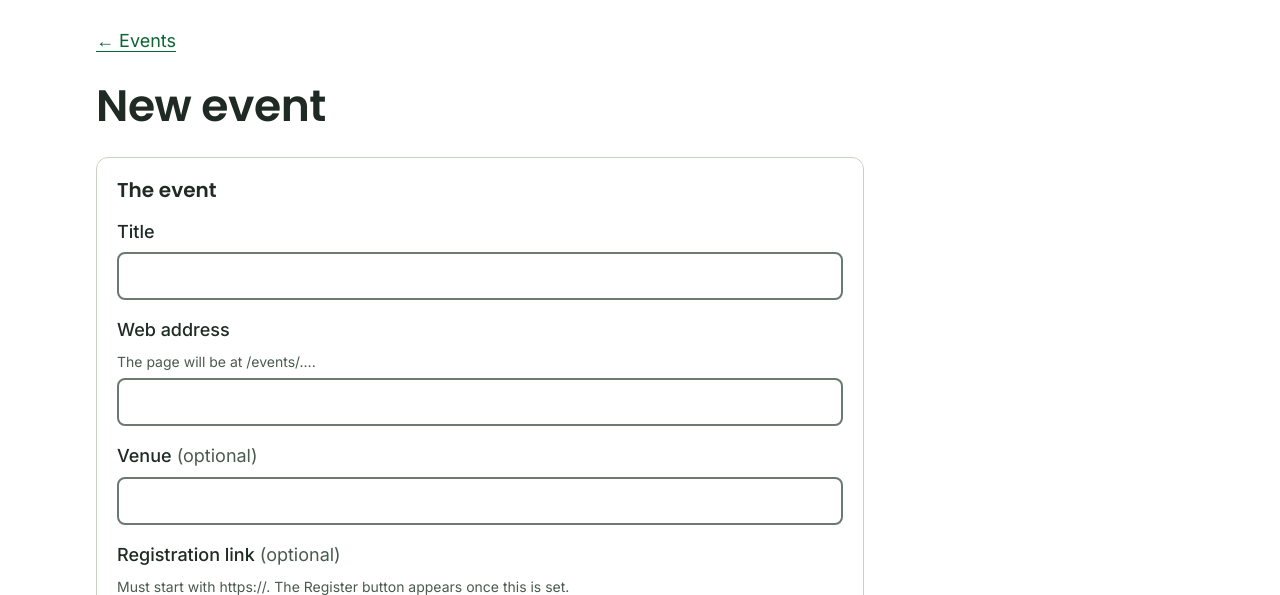
Scenario: posting an event › shows the API’s messages on the right fields, including a taken web address
The image size is (1280, 595).
Type "Freshers Week" into the field labelled "Title" at {"x": 480, "y": 276}, box [117, 252, 843, 300]
(page scrolled)
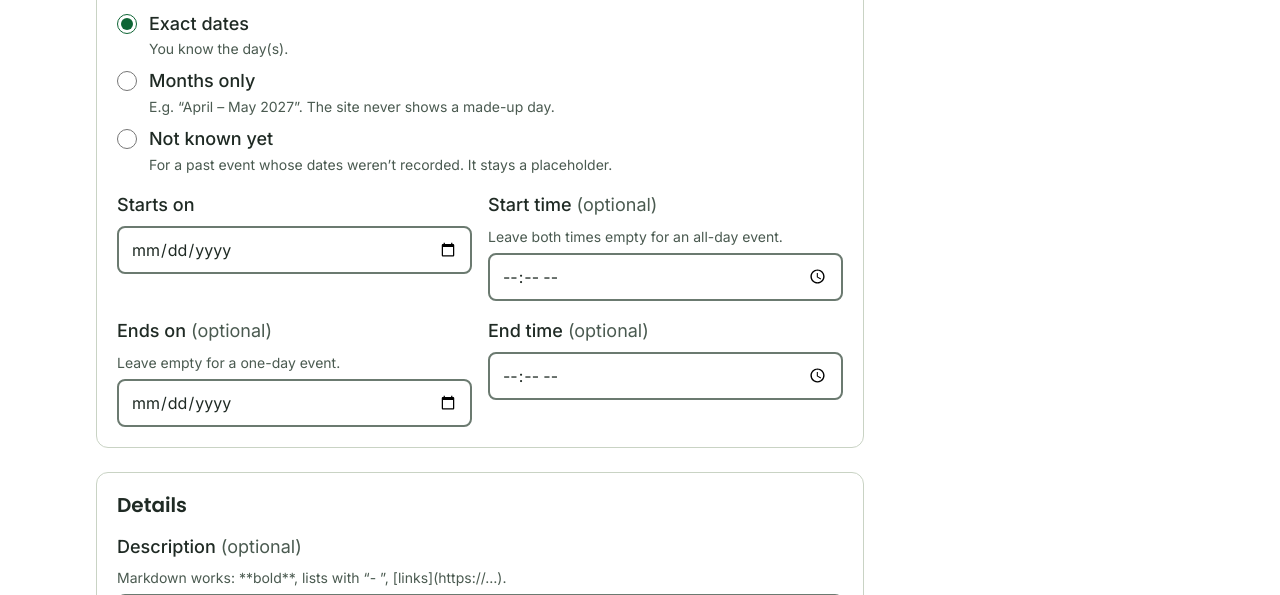
Type "2026-11-30" into the date field labelled "Starts on" at {"x": 294, "y": 250}, box [117, 226, 472, 274]
(page scrolled)
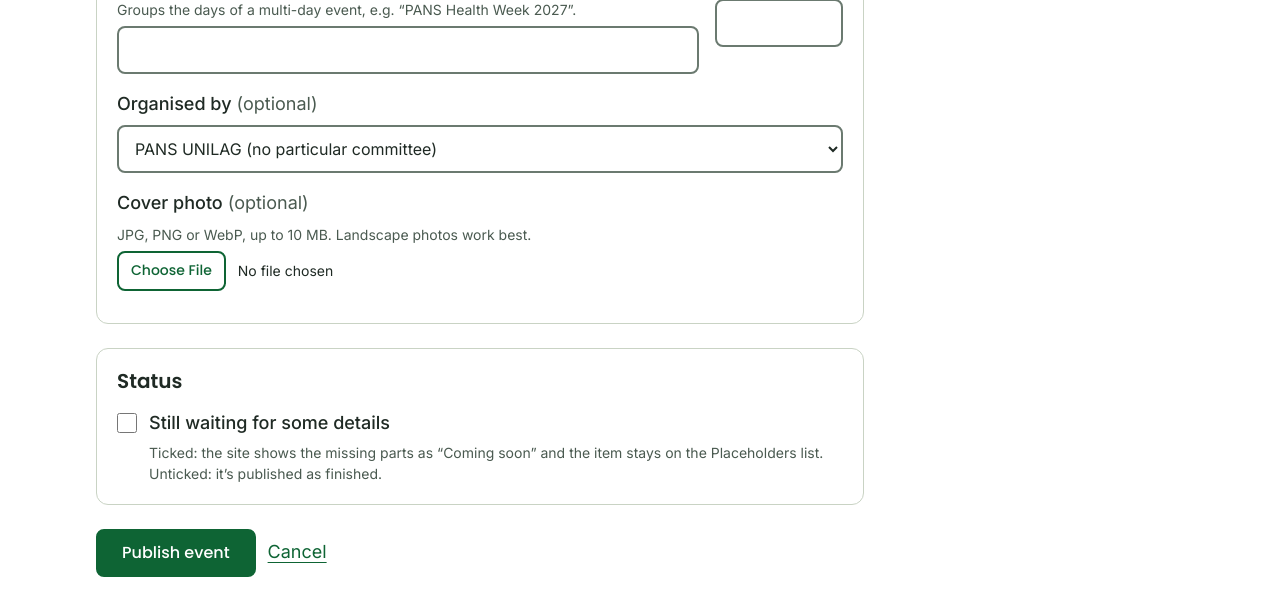
Click the button "Publish event" at {"x": 176, "y": 552}, box [96, 528, 256, 576]
(page scrolled)
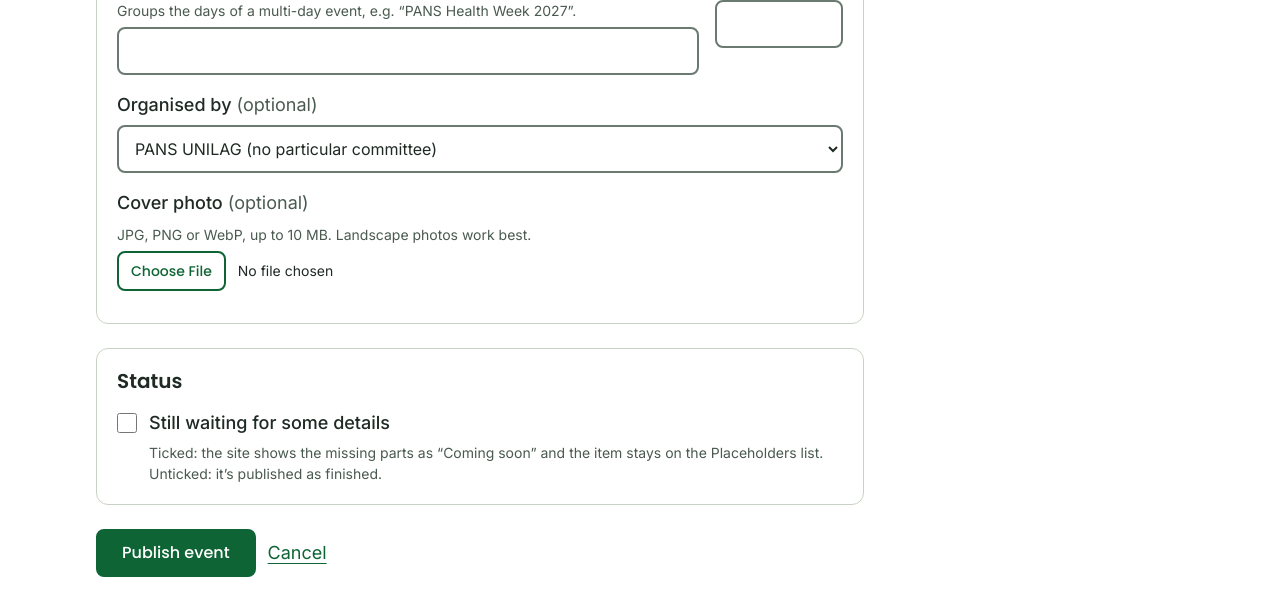
Click the button "Publish event" at {"x": 176, "y": 553}, box [96, 529, 256, 577]
(page scrolled)
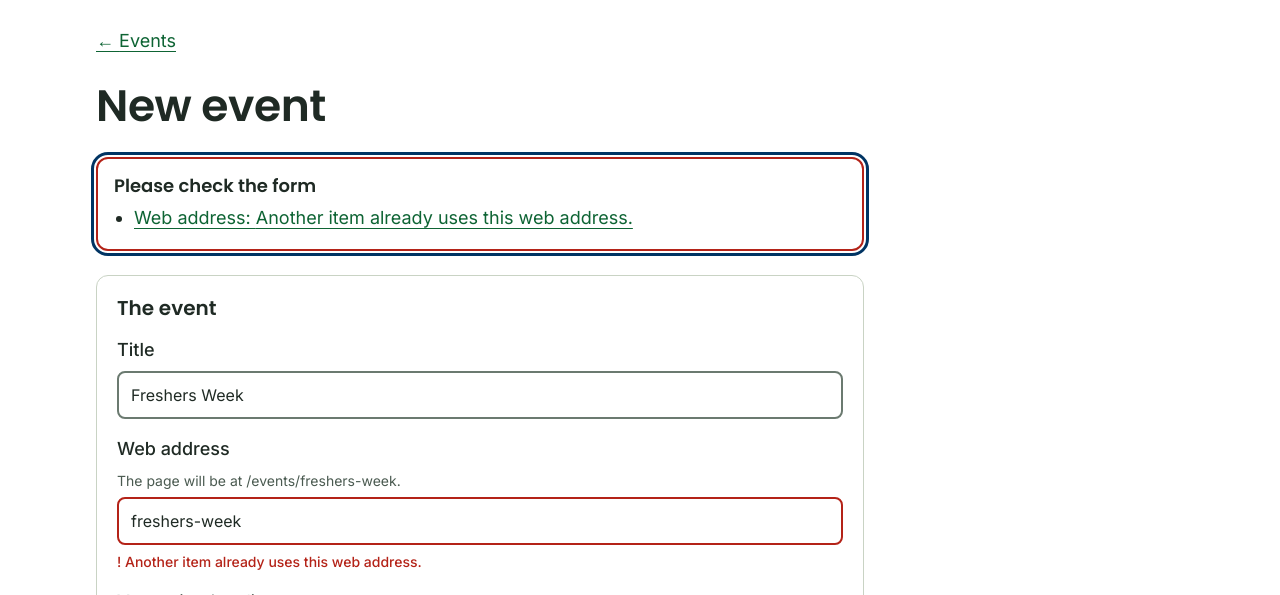
expect the link "Web address: Another item already uses this web address." is shown: met, box [134, 207, 633, 228]
